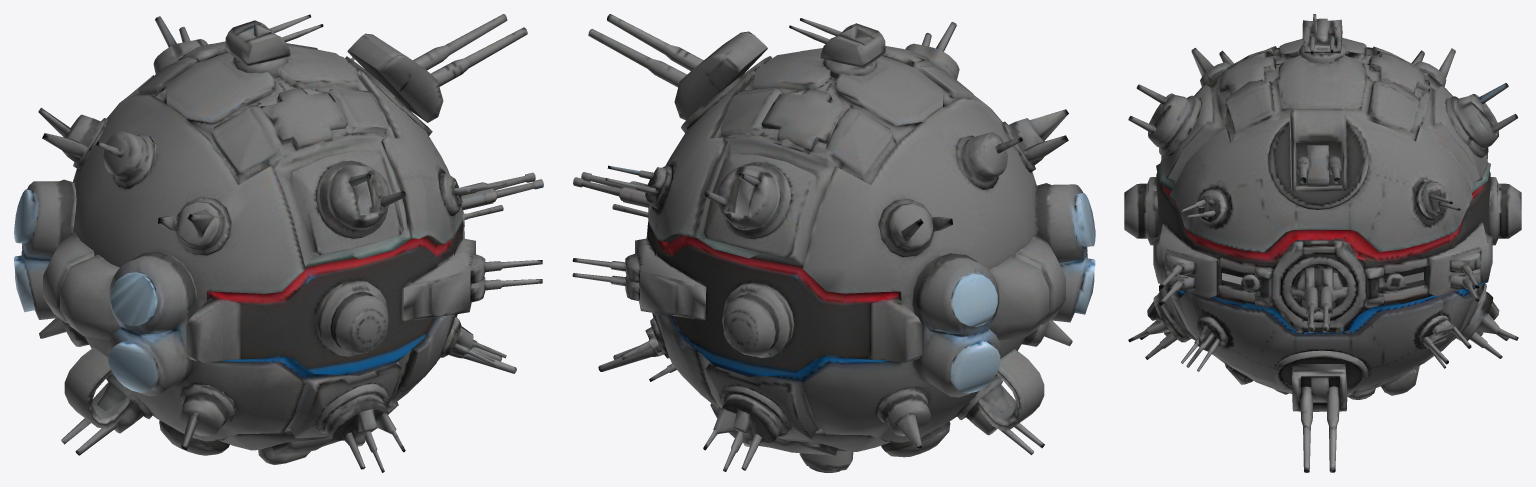
The model's file is turret.glb.
3 views of the same model, side by side, from view 1: azimuth 30°, elevation 25°; view 2: azimuth 150°, elevation 25°; view 3: azimuth 270°, elevation 25° (orthographic). The views are drawn at different scales.
Visible parts, largest first — view 1: tripo_node_93379ce6-19c2-41dc-a562-beb5e950a961; view 2: tripo_node_93379ce6-19c2-41dc-a562-beb5e950a961; view 3: tripo_node_93379ce6-19c2-41dc-a562-beb5e950a961.
Part boxes in pixels (x1,y1,x2,y2): tripo_node_93379ce6-19c2-41dc-a562-beb5e950a961: [14, 14, 543, 472]; tripo_node_93379ce6-19c2-41dc-a562-beb5e950a961: [572, 14, 1095, 472]; tripo_node_93379ce6-19c2-41dc-a562-beb5e950a961: [1124, 14, 1521, 472].
Size of the model in its own units: 0.9995 by 0.8608 by 0.8296.
Materials: 1 (1 with a texture image).
